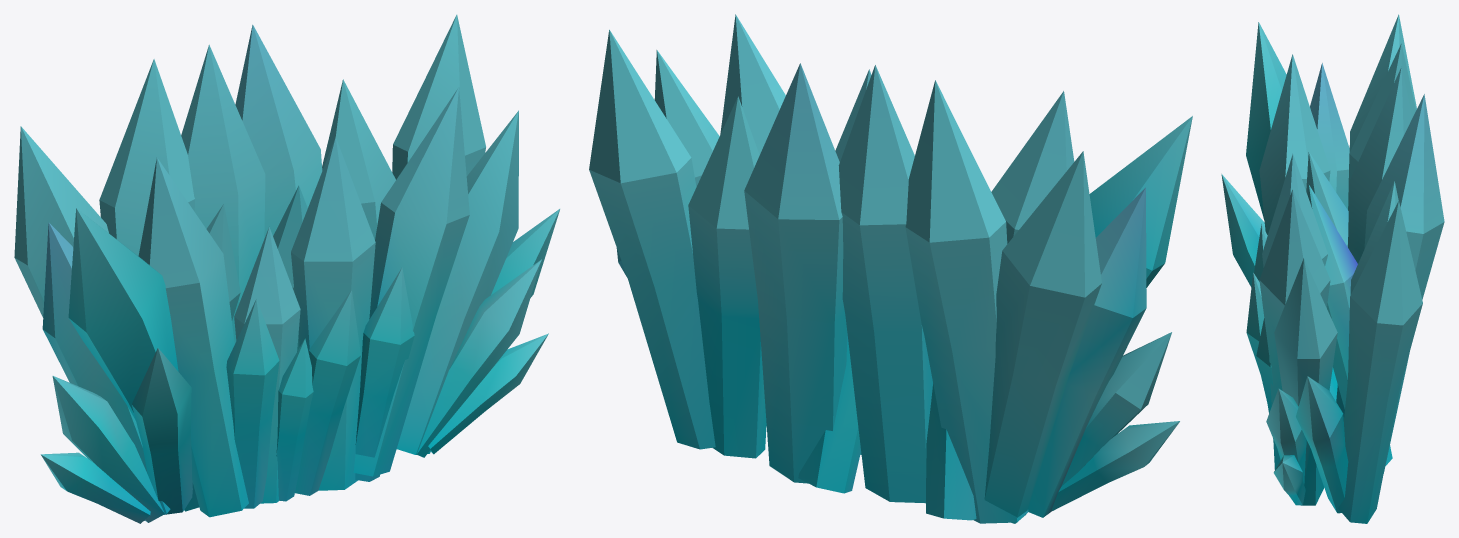
File: Ice_fence.fbx
The picture shows the model from 3 angles, left to right: view 1: azimuth 30°, elevation 25°; view 2: azimuth 150°, elevation 25°; view 3: azimuth 270°, elevation 25°; orthographic projection. The views are drawn at different scales.
Visible parts, largest first — view 1: Ice_fence; view 2: Ice_fence; view 3: Ice_fence.
Part boxes in pixels (x1,y1,x2,y2): Ice_fence: (14,14,559,523); Ice_fence: (589,14,1192,523); Ice_fence: (1221,14,1444,523).
Size of the model in its own units: 284 by 217 by 117.
